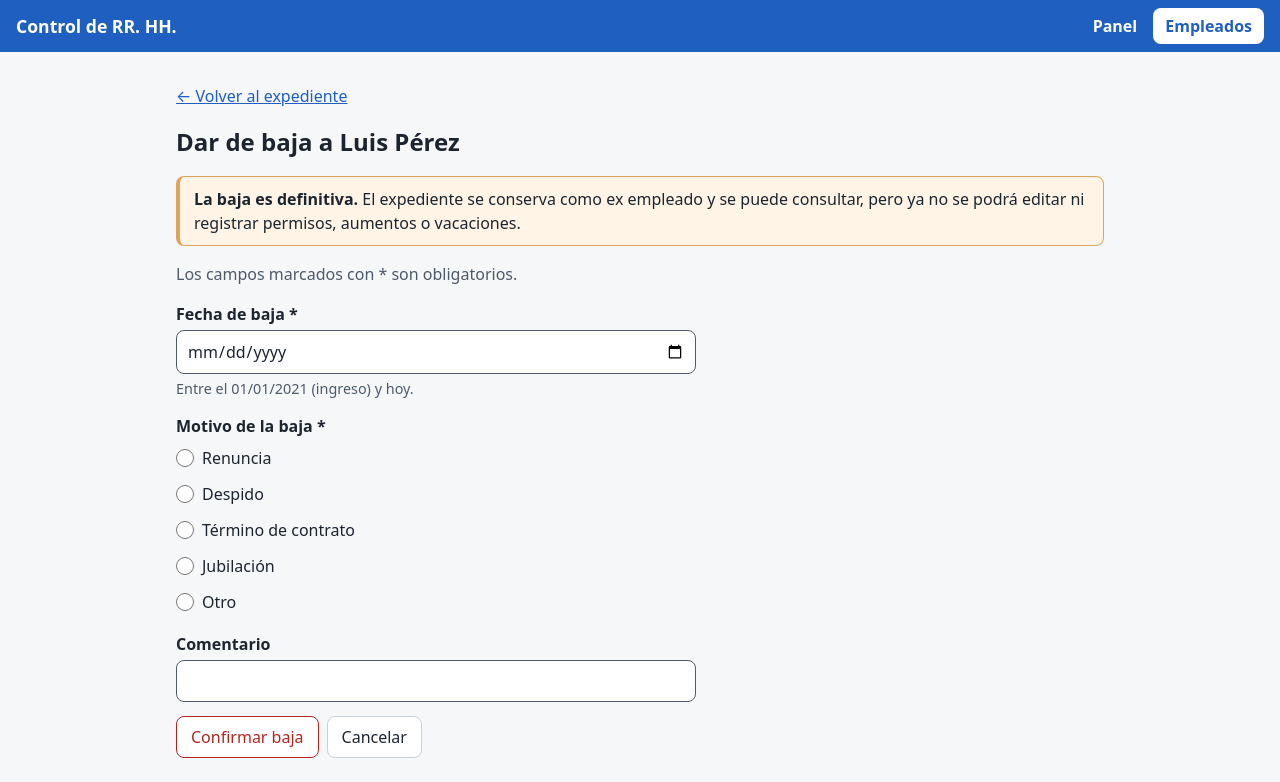
baja de empleados (A8, R8) › Cancelar vuelve al expediente sin dar de baja
Click the link "Cancelar" at (374, 737), box [326,716,422,758]
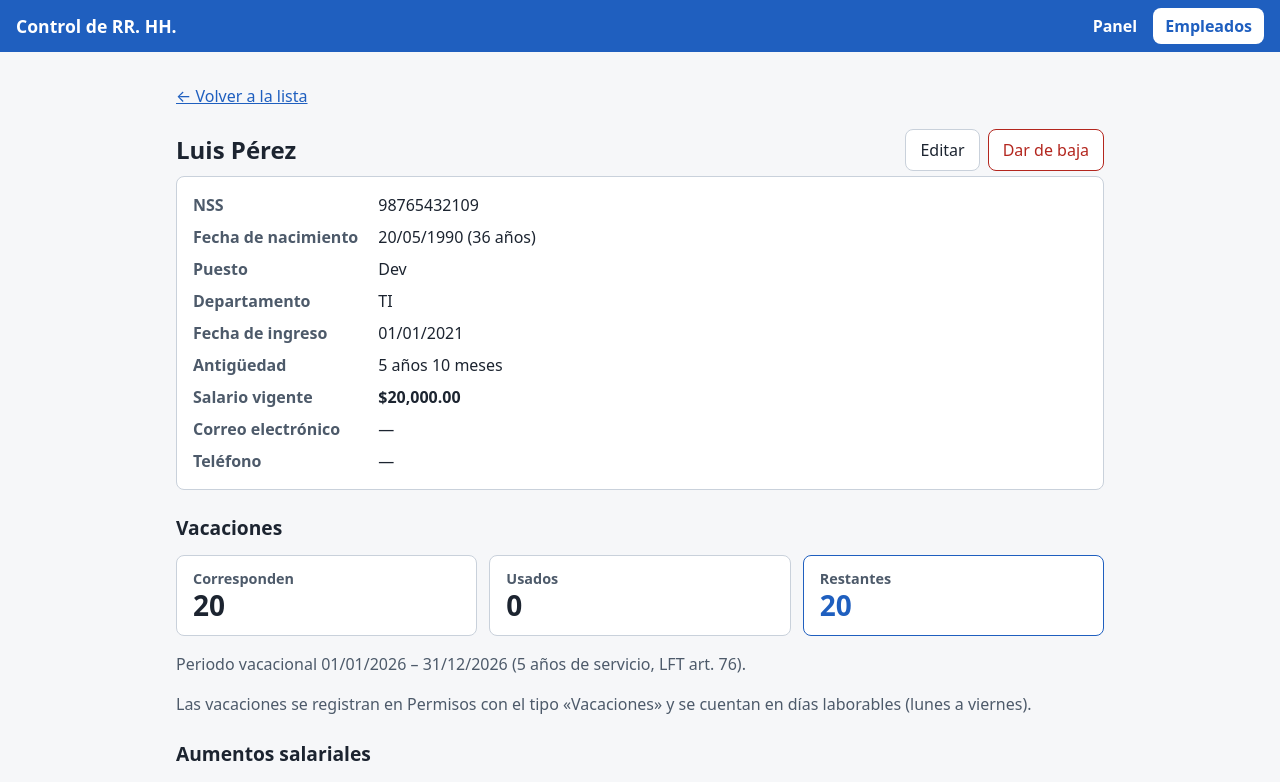
Expected: the heading "Luis Pérez" is shown, [176,132,296,168]
